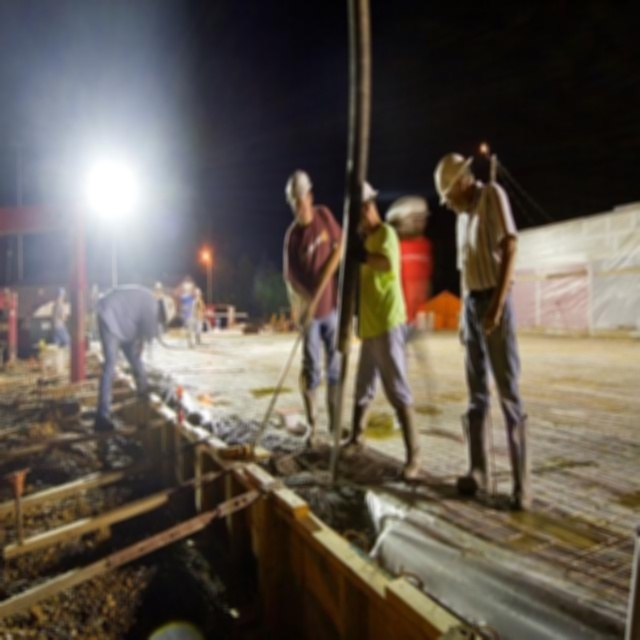Con_Casco: (434, 152, 475, 214)
Sin_Chaleco: (101, 287, 159, 345)
